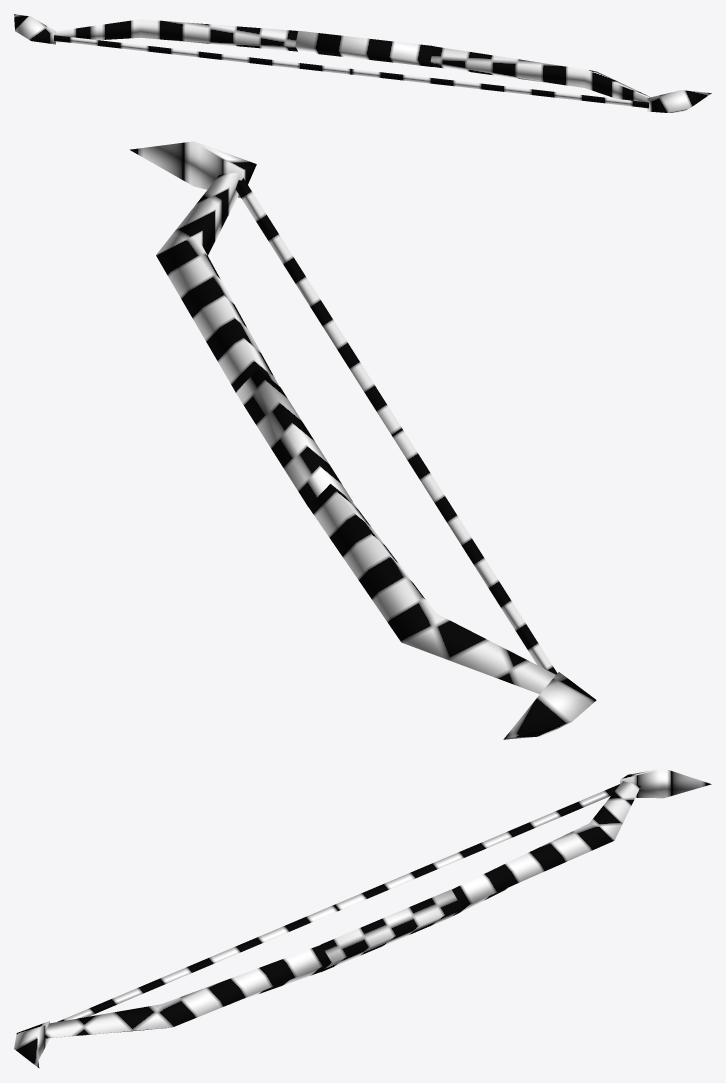
Rendered from initwebw4.dae.
3 views of the same model, one above another, from view 1: azimuth 30°, elevation 25°; view 2: azimuth 150°, elevation 25°; view 3: azimuth 270°, elevation 25° (orthographic). The views are drawn at different scales.
Parts seen in each view (by area): view 1: weapon; view 2: weapon; view 3: weapon.
Boxes of the visible parts, left/top/right/bottom form: weapon: left=14, top=14, right=711, bottom=112; weapon: left=129, top=141, right=596, bottom=739; weapon: left=14, top=768, right=711, bottom=1067.
Size of the model in its own units: 2.41 by 2.41 by 0.114.
1 material, 1 textured.
